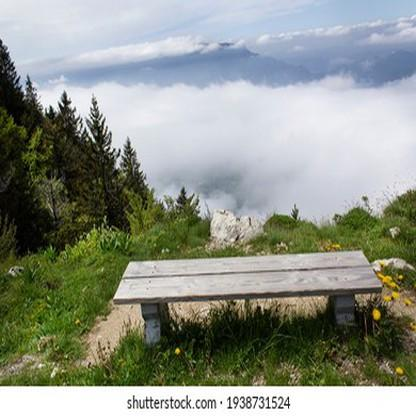obstacle: (114, 250, 389, 342)
